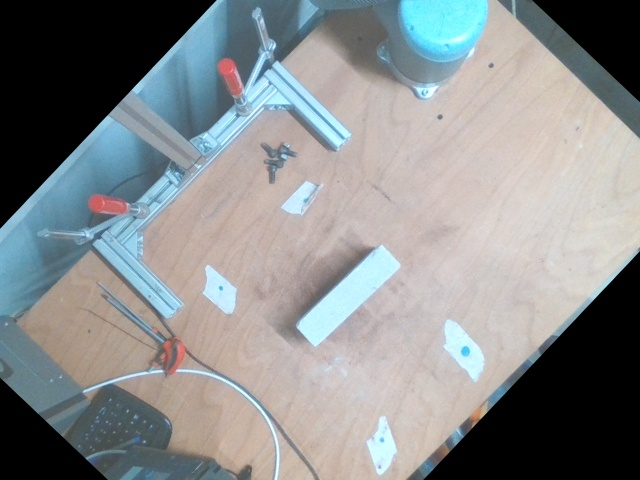brick-side: (295, 245, 402, 347)
